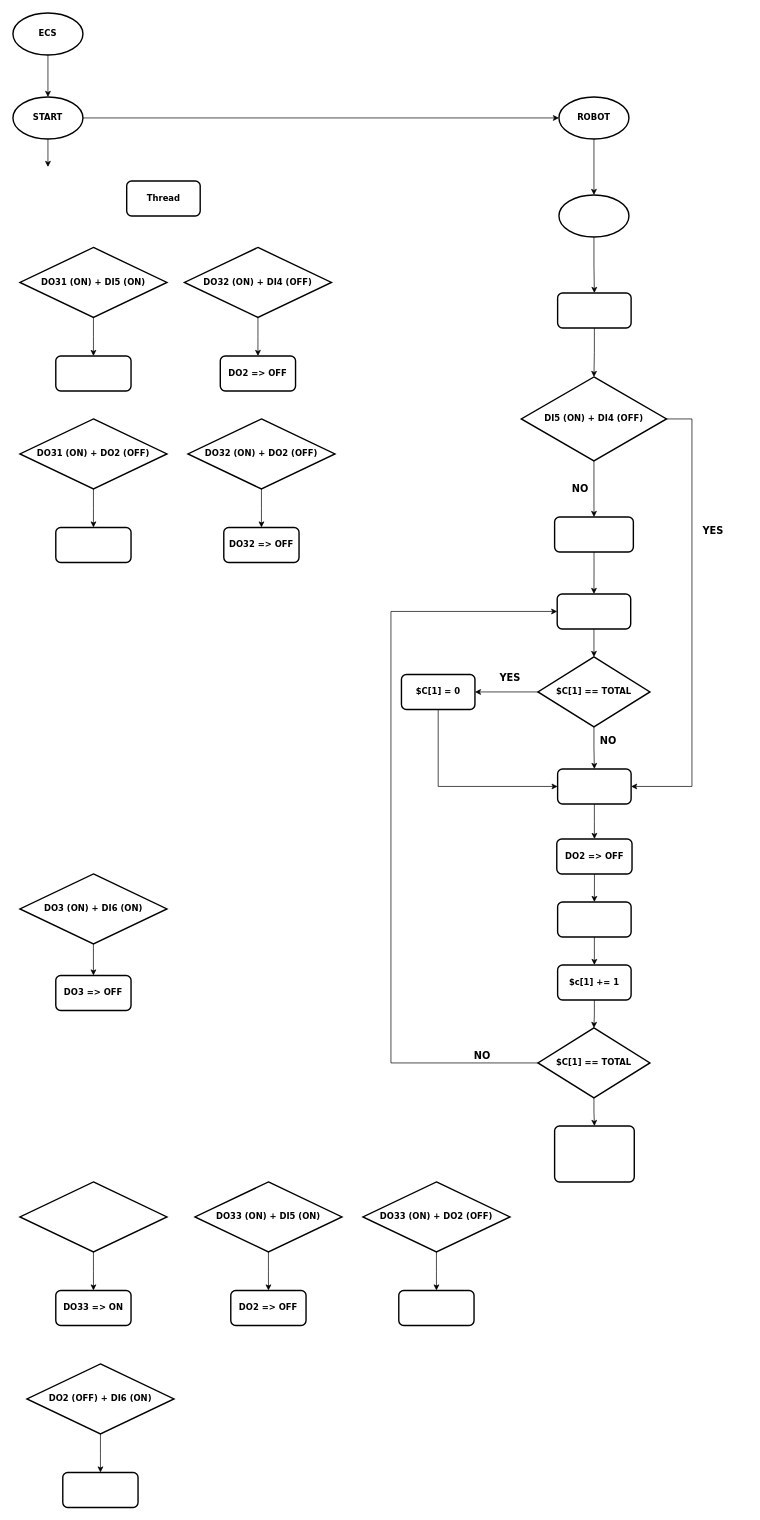
The diagram is 760 pixels wide and 1520 high, and some of its shapes have lost their labels. Each missing label, with the box of its shape:
ALL DO OFF: (557, 292, 631, 328)
CNV PICK: (557, 768, 631, 804)
CNV PLACE: (557, 901, 631, 937)
DO1 => OFF: (62, 1471, 138, 1508)
DO1 => ON DO2 => ON DO3 => ON: (554, 1125, 635, 1182)
DO2 (ON) + DI5 (OFF): (19, 1181, 167, 1252)
DO2 => ON DO31 => ON: (554, 516, 634, 552)
DO31 => OFF: (55, 526, 131, 563)
DO32 => ON: (55, 355, 131, 391)
DO33 => OFF: (398, 1289, 474, 1326)
LOOP: (556, 593, 631, 629)
RUN: (558, 194, 629, 237)
